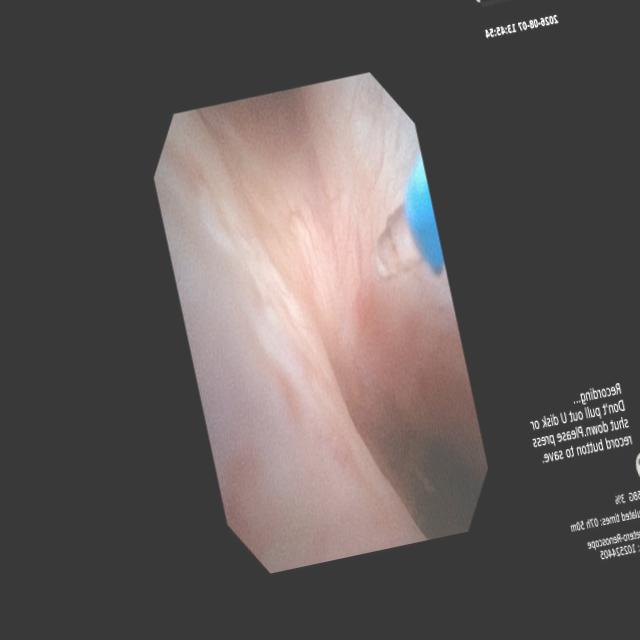laser-fibre: (373, 205, 421, 278)
